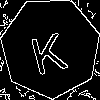K: (25, 23, 70, 76)
